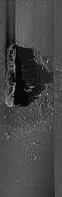ship: (4, 43, 18, 109)
